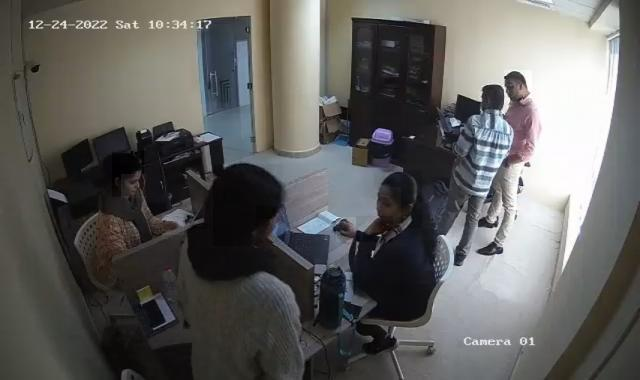no_apron: (356, 216, 393, 242), (336, 218, 363, 243), (162, 214, 185, 235)
no_gloves: (214, 164, 284, 246), (374, 170, 422, 228), (112, 150, 144, 197), (504, 70, 532, 104), (480, 85, 504, 116)
no_hairnet: (256, 207, 286, 244), (374, 187, 402, 225), (122, 175, 146, 199), (505, 77, 524, 106), (480, 91, 494, 112)
